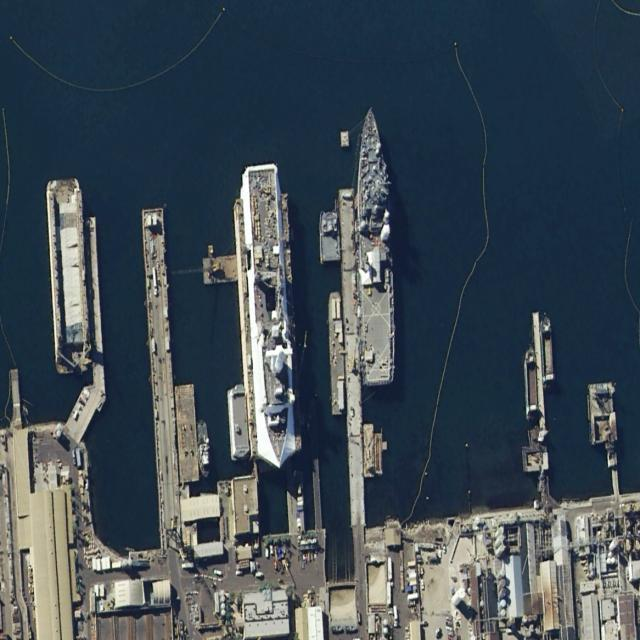Cargo: (539, 310, 555, 384), (525, 346, 538, 418)
Landing: (248, 167, 293, 463), (353, 104, 397, 386)
Other Ship: (198, 419, 211, 479)
